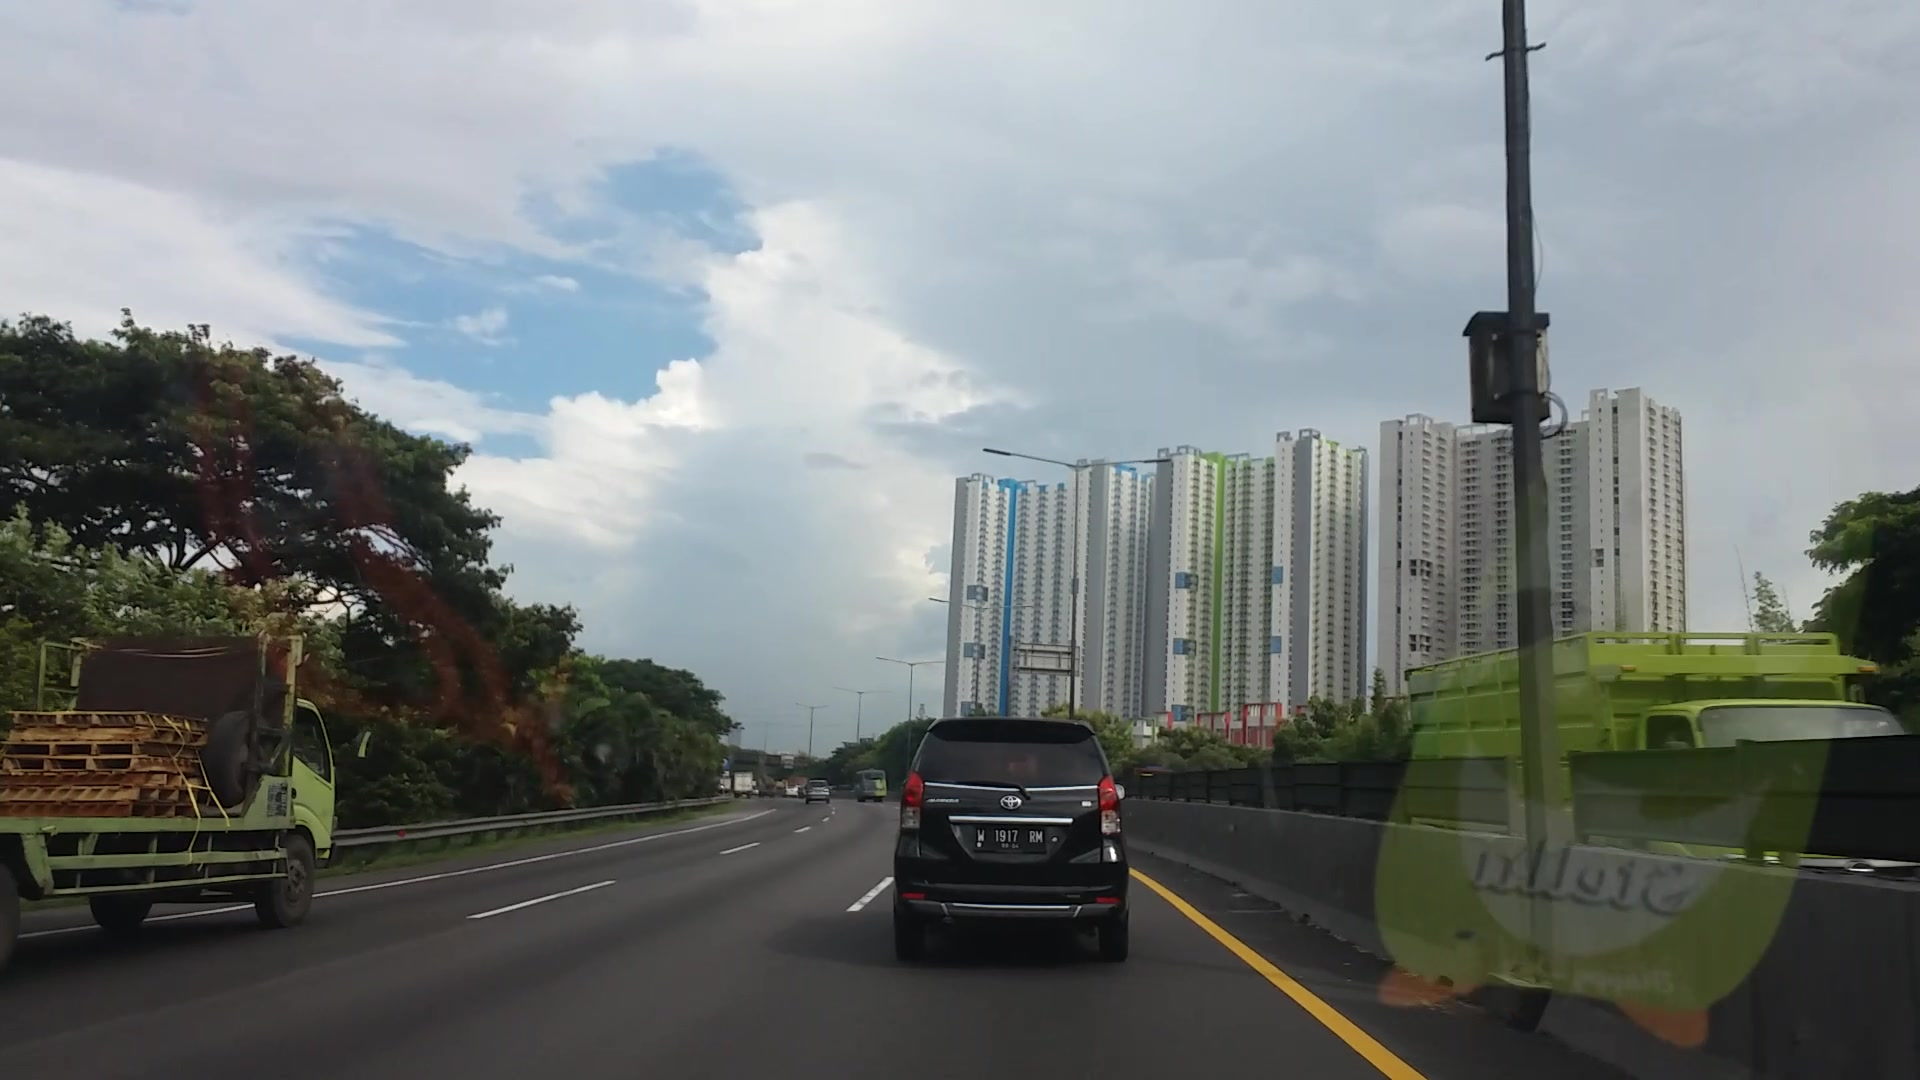plate_positive: (975, 825, 1046, 851)
